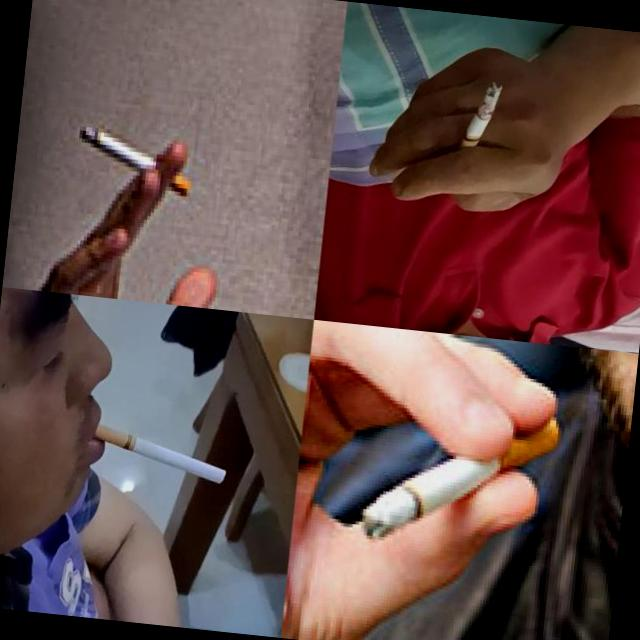smoke: (354, 390, 564, 562), (67, 114, 196, 196), (90, 425, 232, 484), (452, 76, 505, 165)
